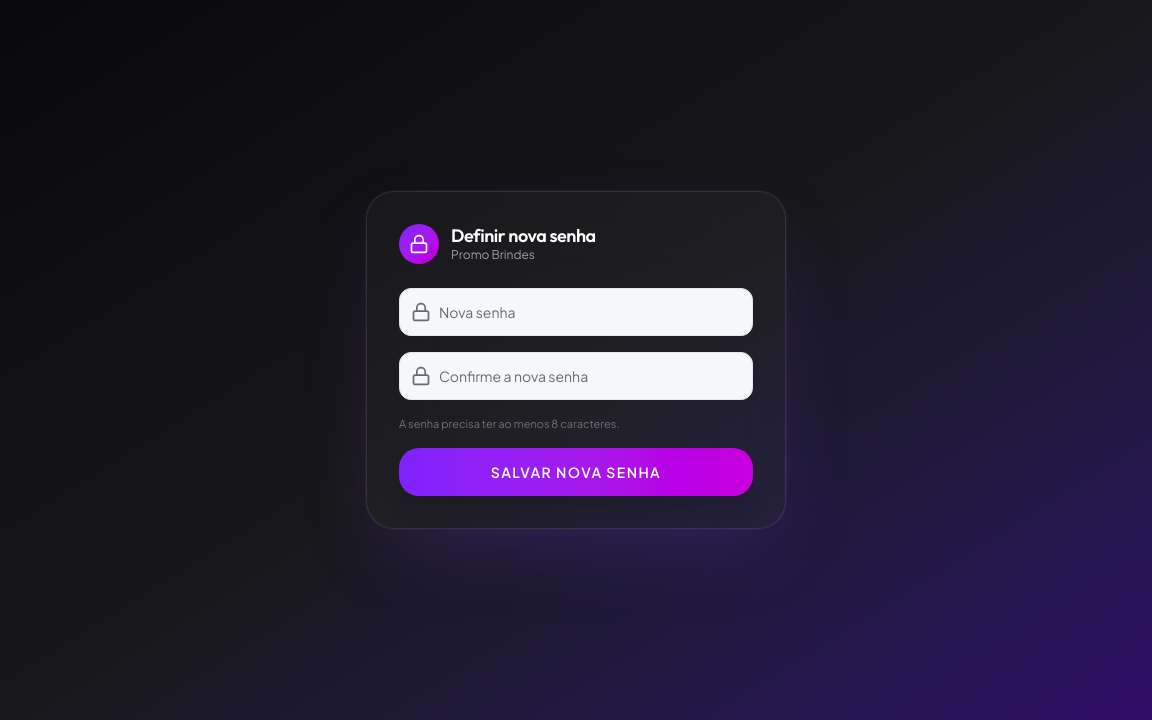
Test: Auth: recuperacao de senha (etapa 035 / AUT-03) › senha valida e salva, encerra a sessao de recuperacao e volta para o login
The width and height of the screenshot is (1152, 720).
Type "senhaNova123" into the password field labelled "Nova senha".
click(576, 312); type("senhaNova123")  # box [399, 288, 753, 336]
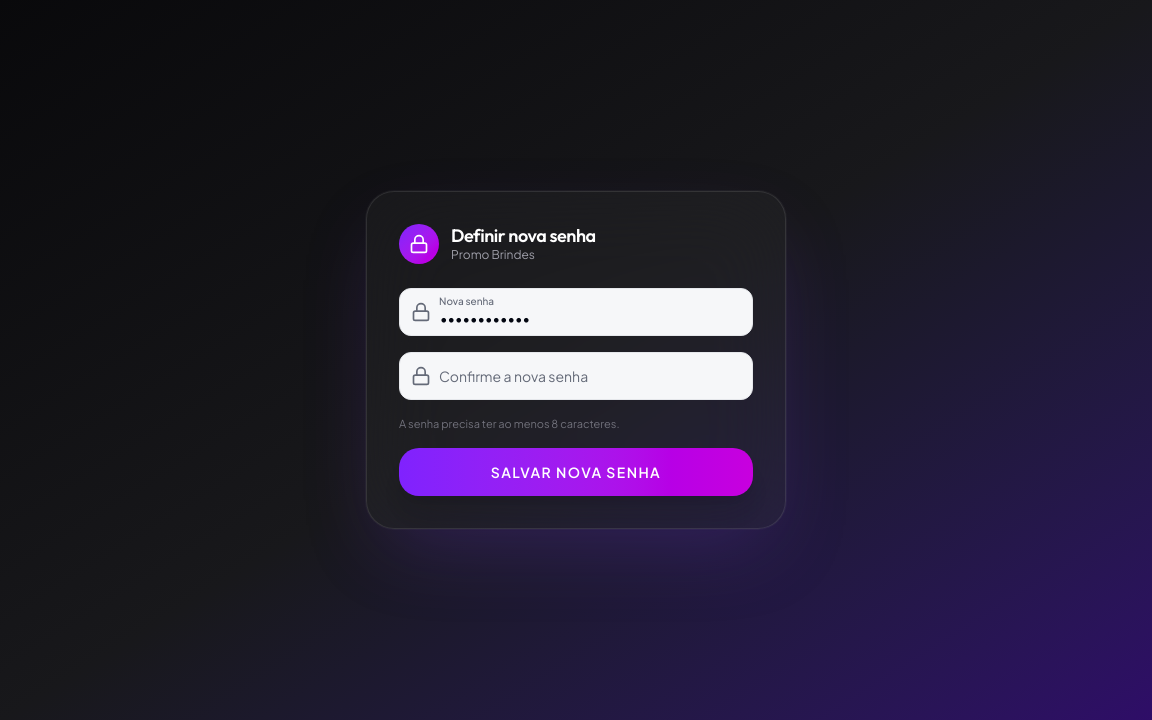
Type "senhaNova123" into the password field labelled "Confirme a nova senha".
click(576, 376); type("senhaNova123")  # box [399, 352, 753, 400]
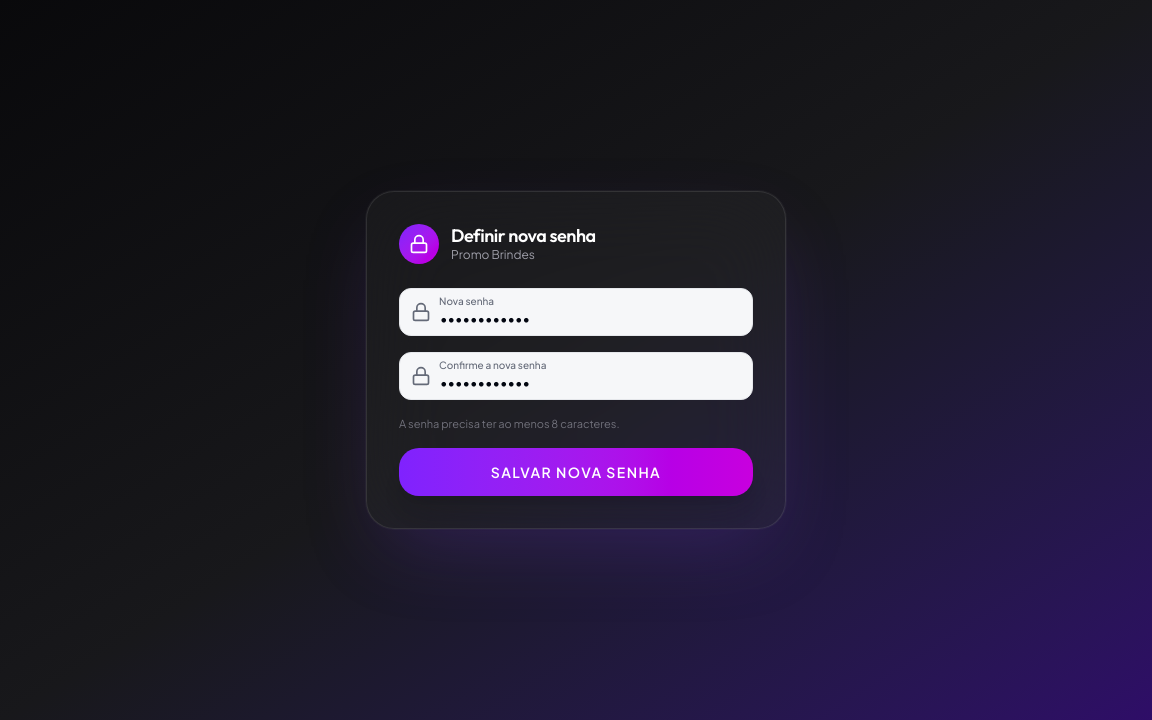
Click the button "Salvar nova senha".
click(576, 472)  # box [399, 448, 753, 496]
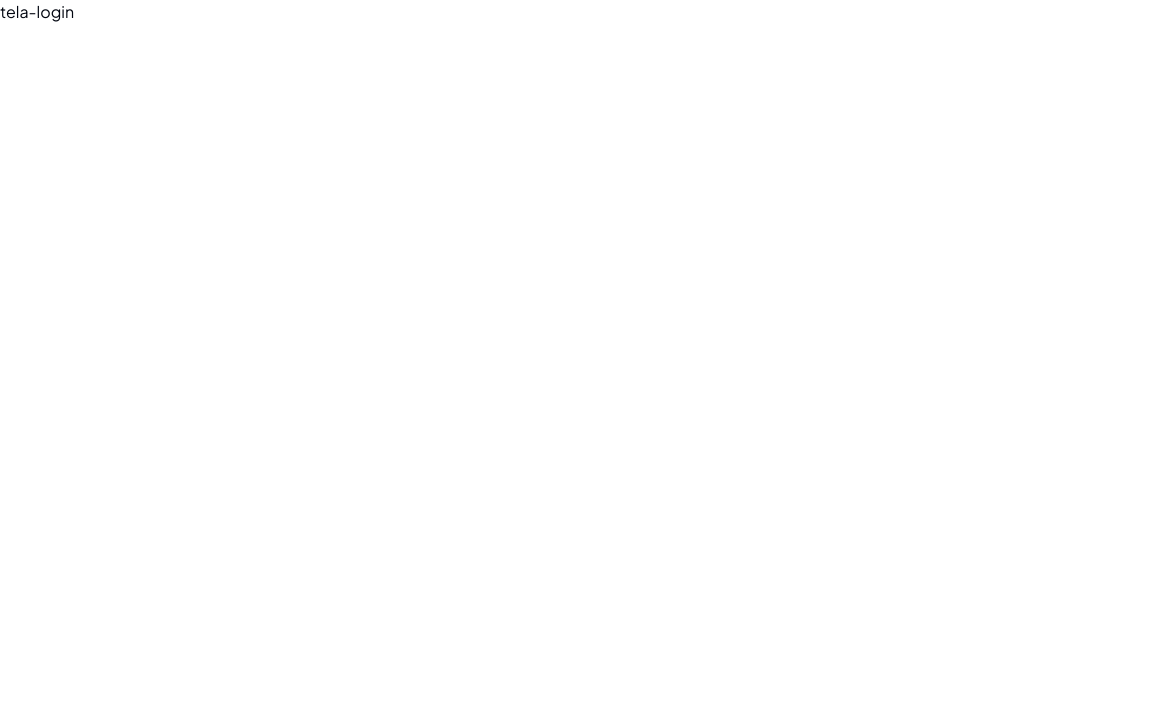
Result: the text "tela-login" is shown at [0, 1, 74, 22]
